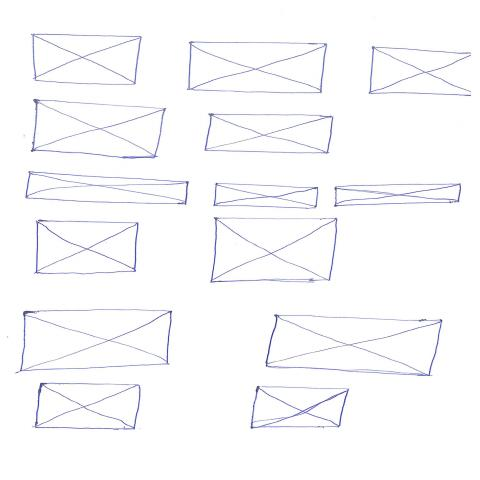Image: (265, 314, 445, 378), (20, 310, 174, 374), (209, 218, 339, 285), (31, 100, 166, 160), (188, 41, 328, 94), (34, 220, 142, 276), (31, 34, 143, 87), (26, 172, 190, 206), (32, 383, 143, 431), (203, 115, 335, 155), (368, 48, 473, 96), (249, 386, 350, 430), (334, 184, 461, 208), (214, 184, 320, 210)
